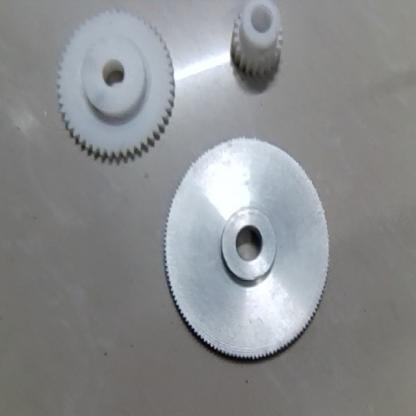FOD: (161, 135, 340, 370), (40, 0, 180, 169), (217, 0, 297, 95)
